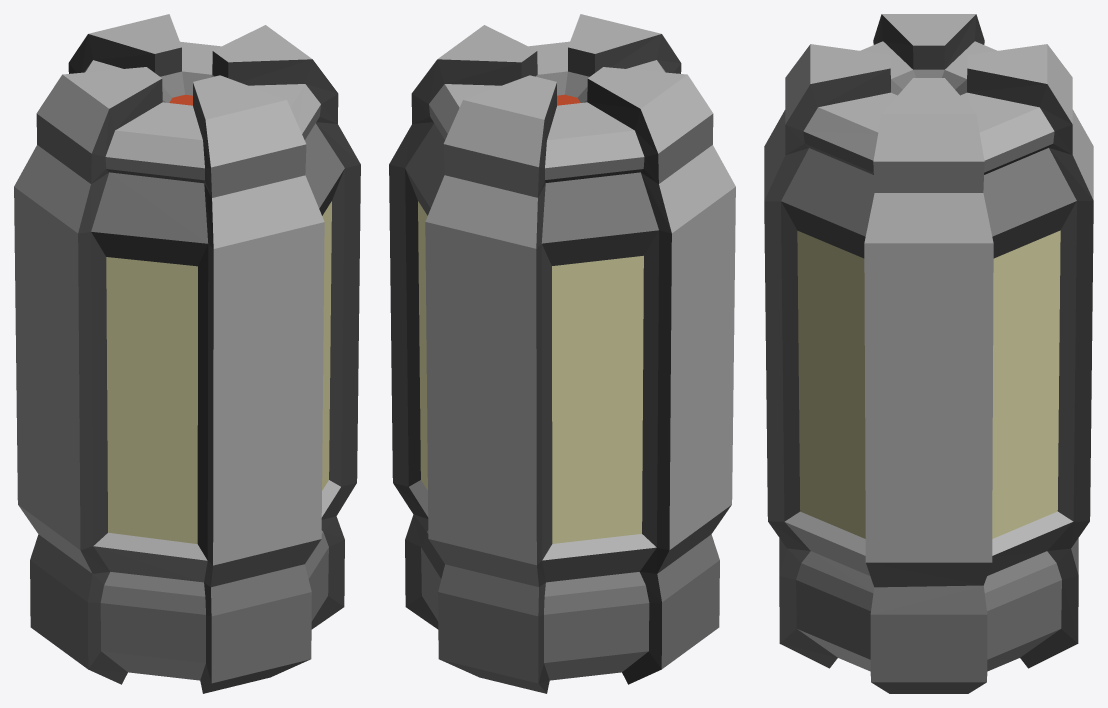
Rendered from GlueGranadine.glb.
The picture shows the model from 3 angles, left to right: view 1: azimuth 30°, elevation 25°; view 2: azimuth 150°, elevation 25°; view 3: azimuth 270°, elevation 25°; orthographic projection.
Visible parts, largest first — view 1: GlueGrenade; view 2: GlueGrenade; view 3: GlueGrenade.
Part boxes in pixels (bbox=[...]): GlueGrenade: bbox=[14, 14, 360, 693]; GlueGrenade: bbox=[389, 14, 735, 693]; GlueGrenade: bbox=[764, 14, 1093, 693].
Size of the model in its own units: 0.4305 by 0.8507 by 0.4305.
